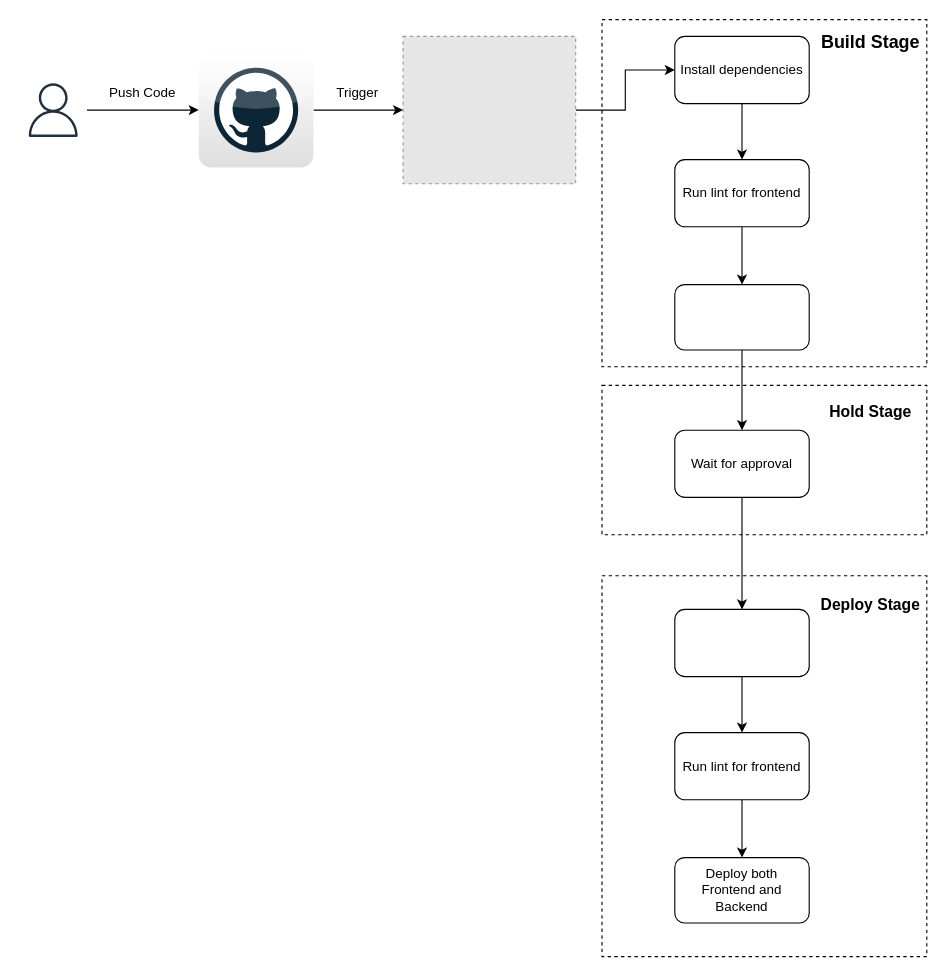
Image size: 946x977. Some labels were removed from this diagram. Grey dashed boxes stand in for pictures. Each missing label, with the centre of its shape:
"Build project" belongs at (741,316).
"Dev" belongs at (52,109).
"Install eb, awscli" belongs at (741,642).
